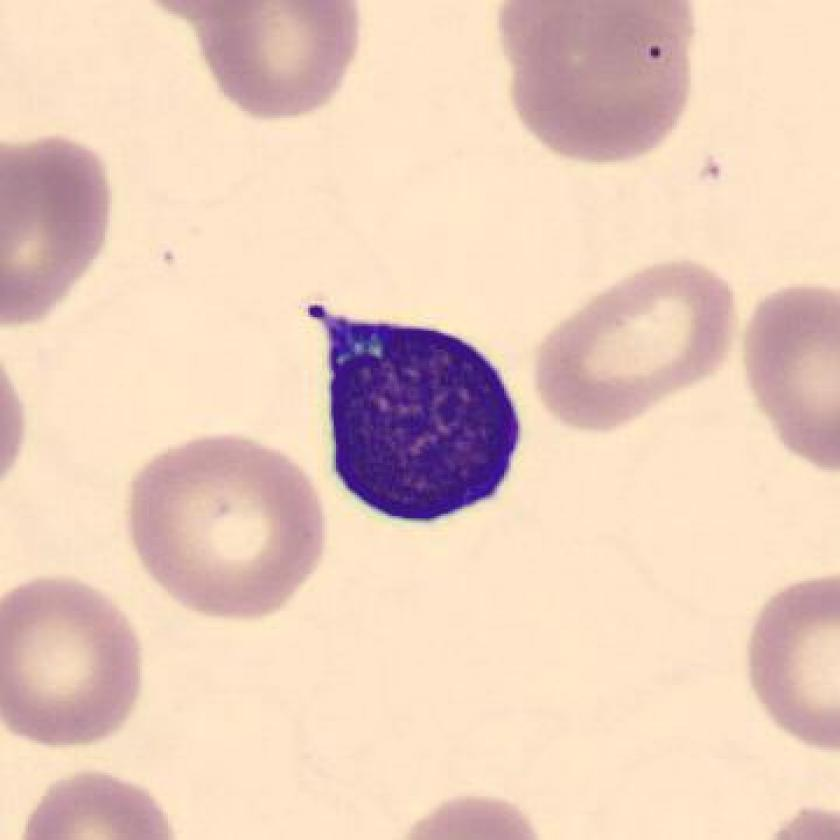lymphocyte: (288, 288, 547, 540)
